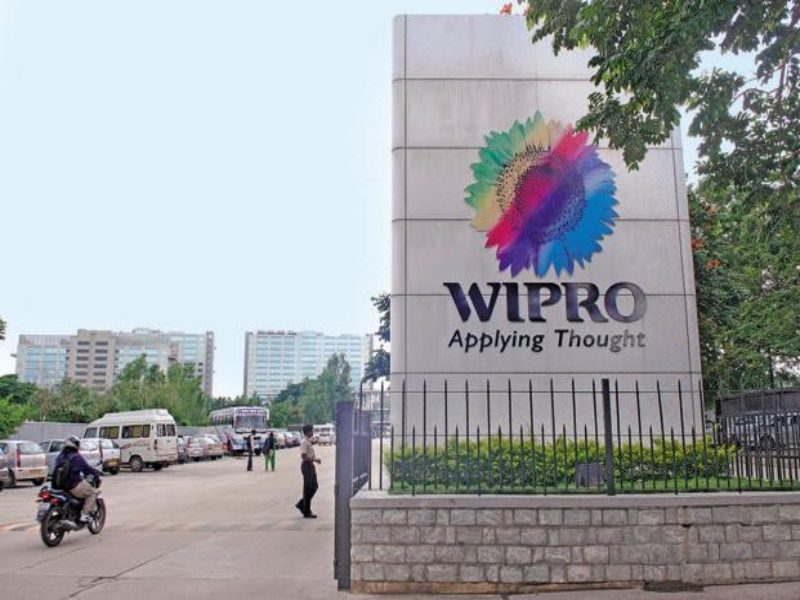wipro: (461, 108, 623, 281)
